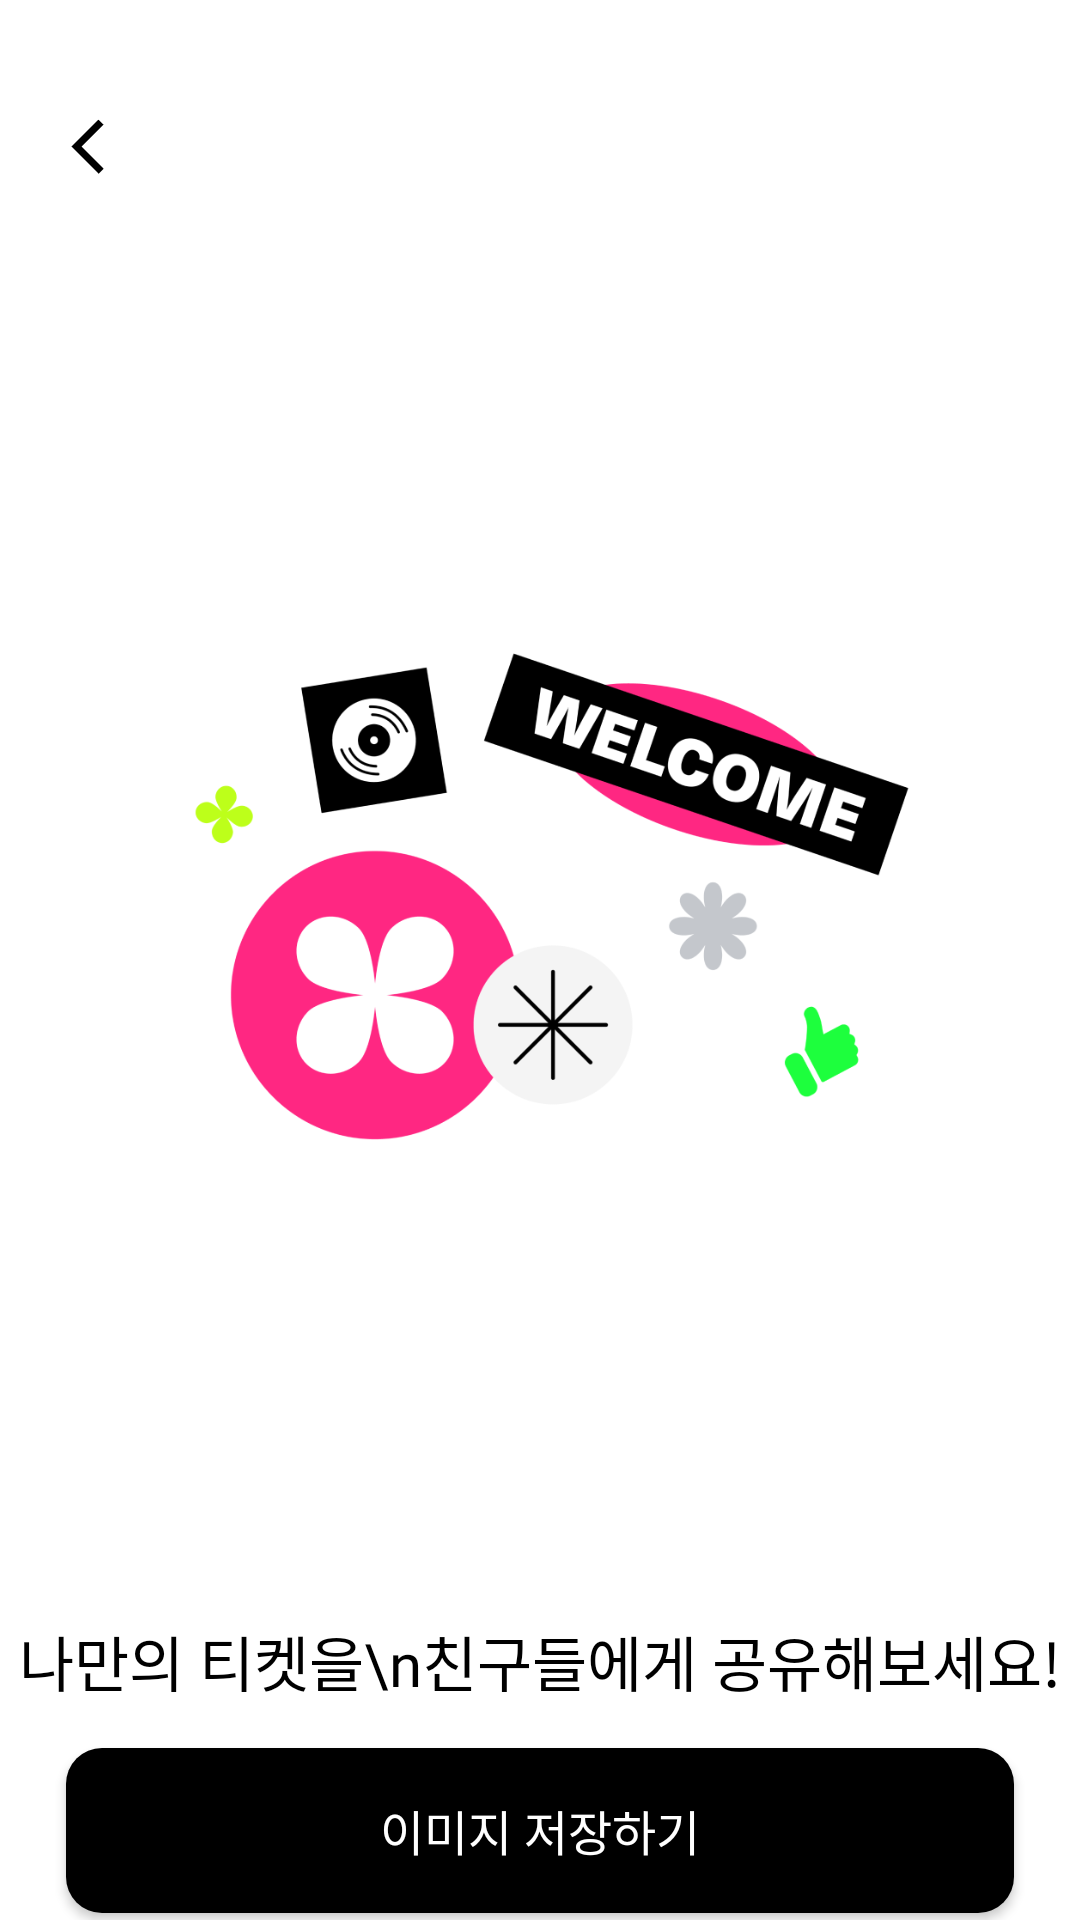

Screen size 1080w x 1920h. Icon name, then its box in pixels as [x1,y1,x2,y2]:
arrow left mono: [71,120,104,174]
